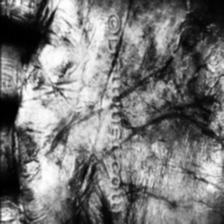Non-Cancerous Skin Condition: (4, 0, 100, 224), (124, 8, 224, 188)
